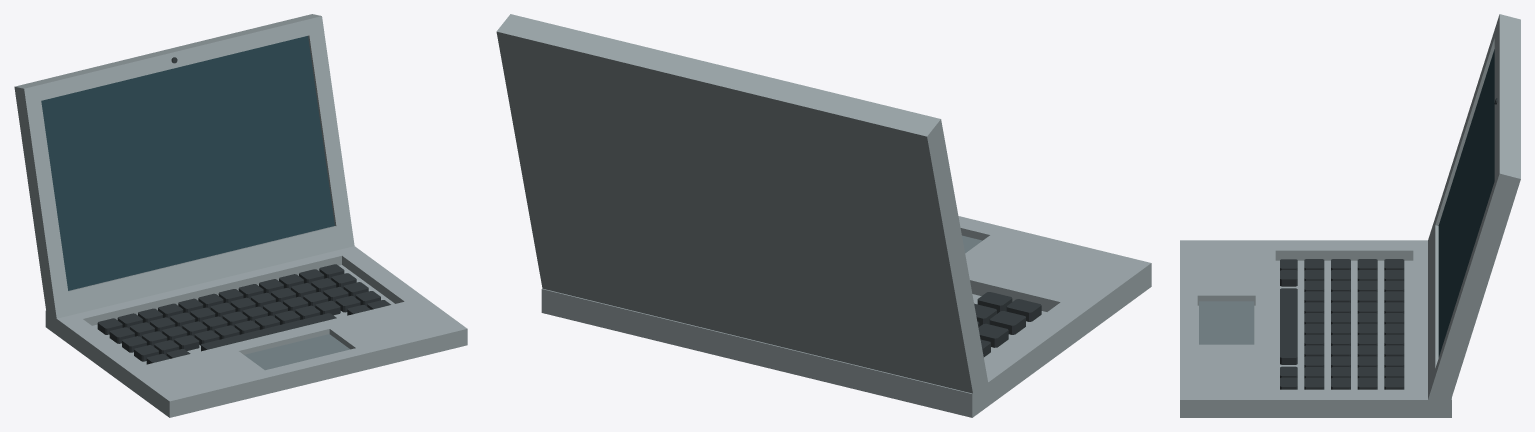
3 views of the same model, side by side, from view 1: azimuth 30°, elevation 25°; view 2: azimuth 150°, elevation 25°; view 3: azimuth 270°, elevation 25° (orthographic). The views are drawn at different scales.
Visible parts, largest first — view 1: WholeBlankInsetDisplay, WholeDualWellPortableBase, WholeRecessedScreenLid, WholeRecessedTouchPad, WholeBottomRowKey2; view 2: WholeRecessedScreenLid, WholeDualWellPortableBase, WholeBlankKey_R0_C0; view 3: WholeDualWellPortableBase, WholeRecessedScreenLid, WholeBlankInsetDisplay, WholeRecessedTouchPad, WholeBottomRowKey2.
Part boxes in pixels (x1,y1,x2,y2): WholeBlankInsetDisplay: (41,36,334,290); WholeDualWellPortableBase: (45,246,467,417); WholeRecessedScreenLid: (14,14,354,318); WholeRecessedTouchPad: (244,334,349,370); WholeBottomRowKey2: (201,313,336,351); WholeRecessedScreenLid: (496,14,988,399); WholeDualWellPortableBase: (541,216,1151,417); WholeBlankKey_R0_C0: (989,311,1025,334); WholeDualWellPortableBase: (1180,240,1451,417); WholeRecessedScreenLid: (1427,14,1520,408); WholeBlankInsetDisplay: (1438,49,1494,357); WholeRecessedTouchPad: (1199,301,1254,344); WholeBottomRowKey2: (1280,288,1297,364).
Bounding box in the file's own units: 0.34 × 0.2468 × 0.307.
